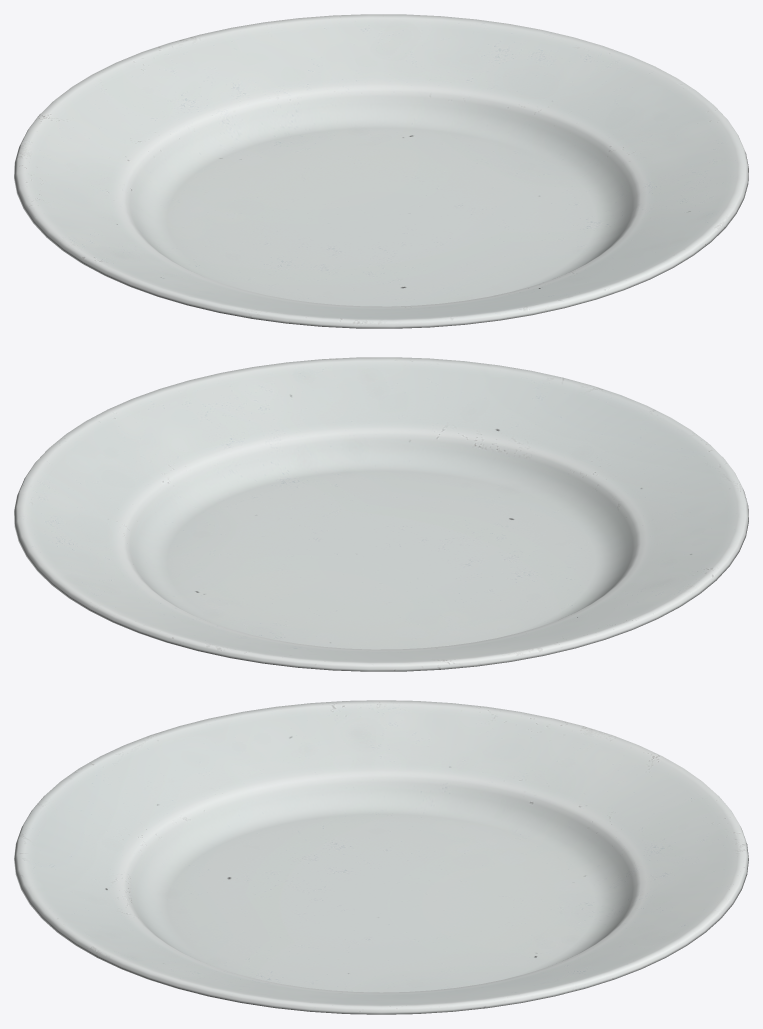
The model's file is unhyun__white_porcelain_dish_a.glb.
The picture shows the model from 3 angles, top to bottom: view 1: azimuth 30°, elevation 25°; view 2: azimuth 150°, elevation 25°; view 3: azimuth 270°, elevation 25°; orthographic projection.
Visible parts, largest first — view 1: SM_WhitePorcelainDish_M_WhitePorcelainDish_0; view 2: SM_WhitePorcelainDish_M_WhitePorcelainDish_0; view 3: SM_WhitePorcelainDish_M_WhitePorcelainDish_0.
Boxes of the visible parts, x1,y1,x2,y2 form: SM_WhitePorcelainDish_M_WhitePorcelainDish_0: (14, 14, 748, 328); SM_WhitePorcelainDish_M_WhitePorcelainDish_0: (14, 357, 748, 671); SM_WhitePorcelainDish_M_WhitePorcelainDish_0: (14, 700, 748, 1014).
Bounding box in the file's own units: 0.2094 × 0.0187 × 0.2094.
Materials: 1 (1 with a texture image).
